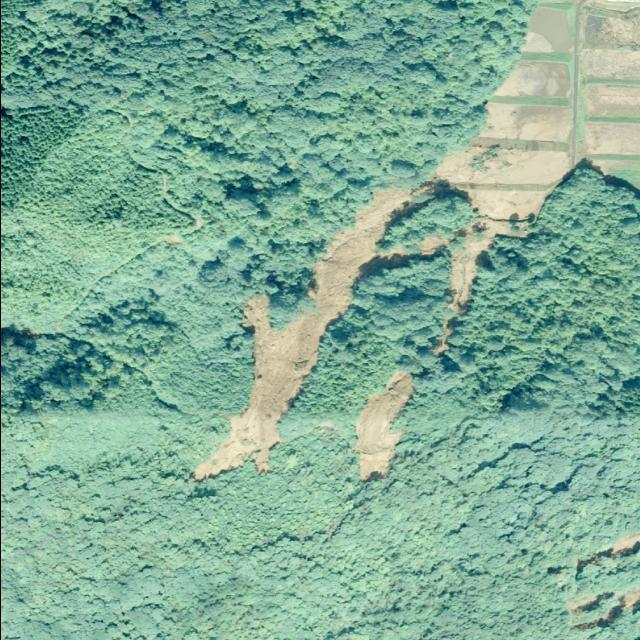landslide: (193, 0, 640, 480), (436, 0, 640, 221), (355, 376, 412, 480)
